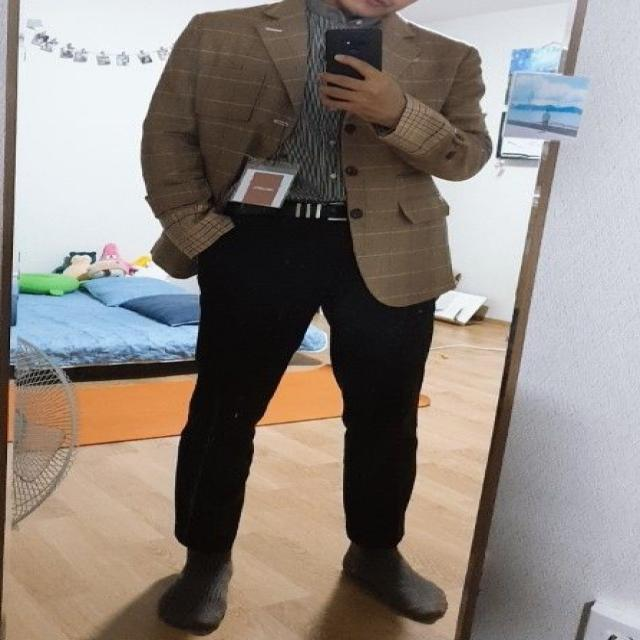blazer: (139, 0, 492, 305)
denimpants: (172, 204, 438, 554)
